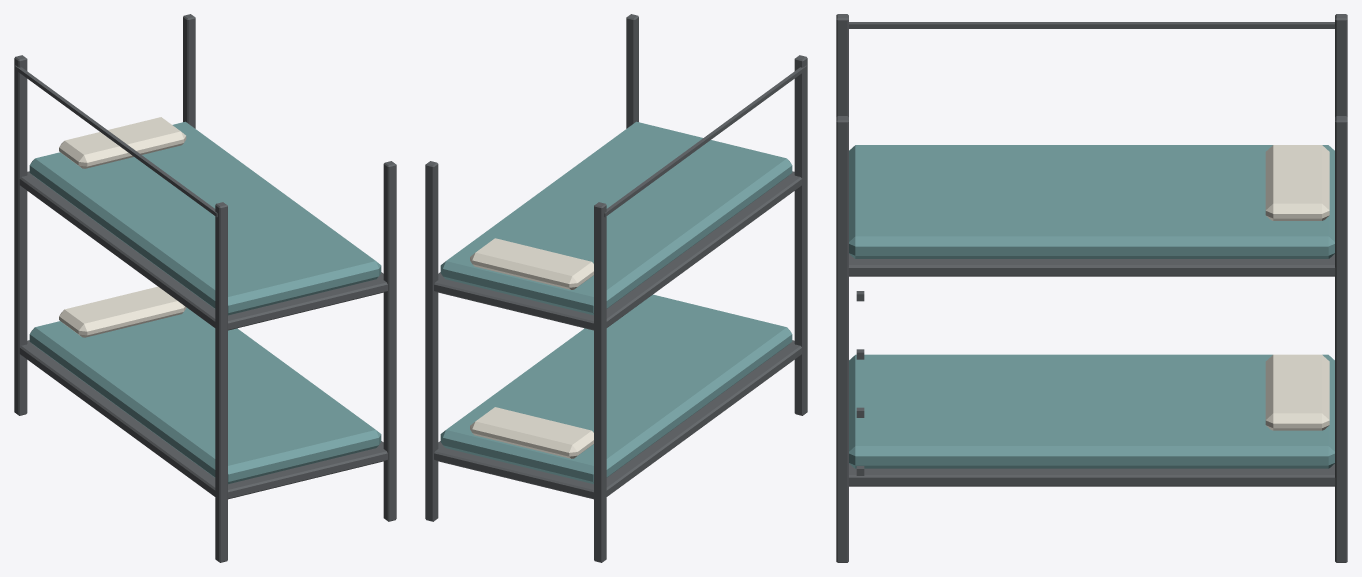
The model's file is bunk_bed.glb.
3 renders of one model, left to right at view 1: azimuth 30°, elevation 25°; view 2: azimuth 150°, elevation 25°; view 3: azimuth 270°, elevation 25°, orthographic. The views are drawn at different scales.
Parts seen in each view (by area): view 1: bunk_bed; view 2: bunk_bed; view 3: bunk_bed.
Part boxes in pixels (box(x1,y1,x2,y2)): bunk_bed: box(14, 14, 396, 562); bunk_bed: box(425, 14, 807, 562); bunk_bed: box(836, 14, 1347, 562).
Bounding box in the file's own units: 1.01 × 1.9 × 1.99.
